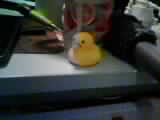duck: (64, 31, 97, 66)
